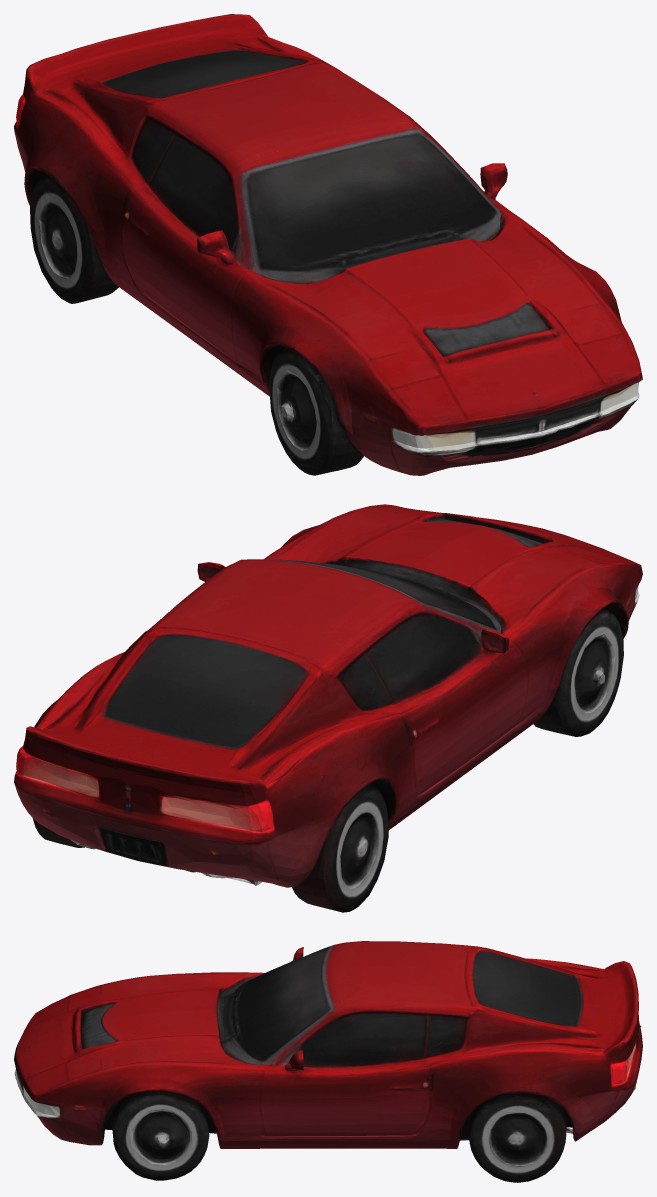
The model's file is hovercraft.glb.
3 renders of one model, top to bottom at view 1: azimuth 30°, elevation 25°; view 2: azimuth 150°, elevation 25°; view 3: azimuth 270°, elevation 25°, orthographic. The views are drawn at different scales.
Parts seen in each view (by area): view 1: world; view 2: world; view 3: world.
Part boxes in pixels (box(x1,y1,x2,y2)): world: box(14, 14, 642, 475); world: box(14, 504, 642, 912); world: box(14, 941, 642, 1182).
Bounding box in the file's own units: 0.4394 × 0.2857 × 1.
Materials: 1 (1 with a texture image).
